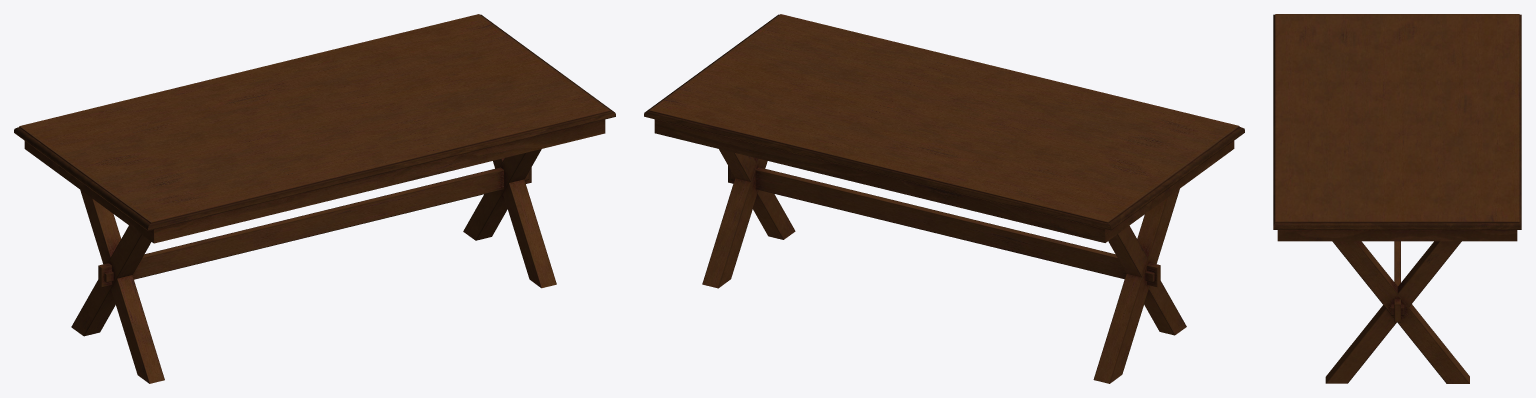
File: table_B07DBFFG9Z.glb
3 renders of one model, left to right at view 1: azimuth 30°, elevation 25°; view 2: azimuth 150°, elevation 25°; view 3: azimuth 270°, elevation 25°, orthographic. The views are drawn at different scales.
Parts seen in each view (by area): view 1: RootNode; view 2: RootNode; view 3: RootNode.
Part boxes in pixels (x1,y1,x2,y2): RootNode: [14, 14, 615, 383]; RootNode: [644, 14, 1244, 383]; RootNode: [1273, 14, 1521, 383].
Size of the model in its own units: 1.2 by 0.4591 by 0.5941.
Materials: 1 (1 with a texture image).
